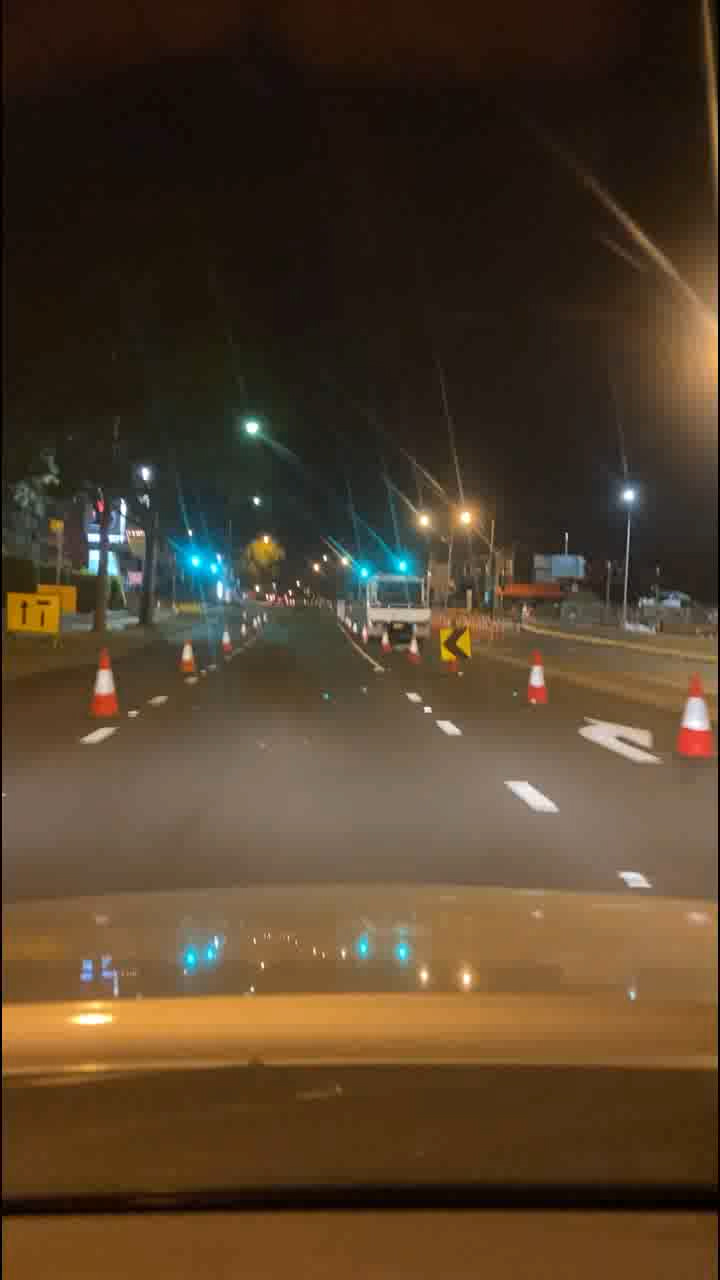road cone: (87, 648, 125, 731), (673, 672, 711, 755), (517, 641, 555, 724), (168, 631, 208, 690), (212, 608, 258, 650)
road works sign board: (4, 590, 58, 640), (433, 621, 472, 661)
truck: (343, 565, 425, 661)
